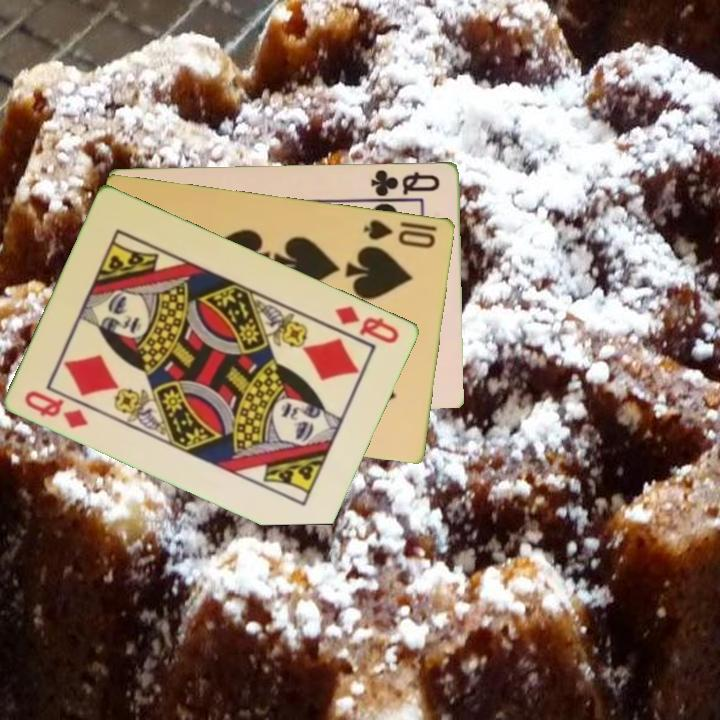10s: (360, 215, 439, 251)
Qc: (368, 165, 443, 199)
Qd: (332, 301, 403, 347), (22, 387, 92, 431)
